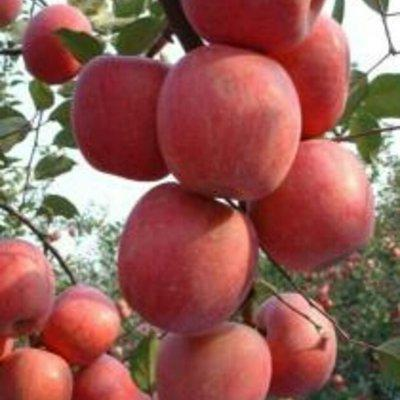apple: (157, 49, 306, 193), (115, 187, 253, 336), (254, 138, 374, 273), (70, 52, 182, 186), (252, 289, 337, 398), (153, 323, 272, 395), (39, 286, 121, 364), (1, 236, 56, 344), (1, 346, 73, 400)
